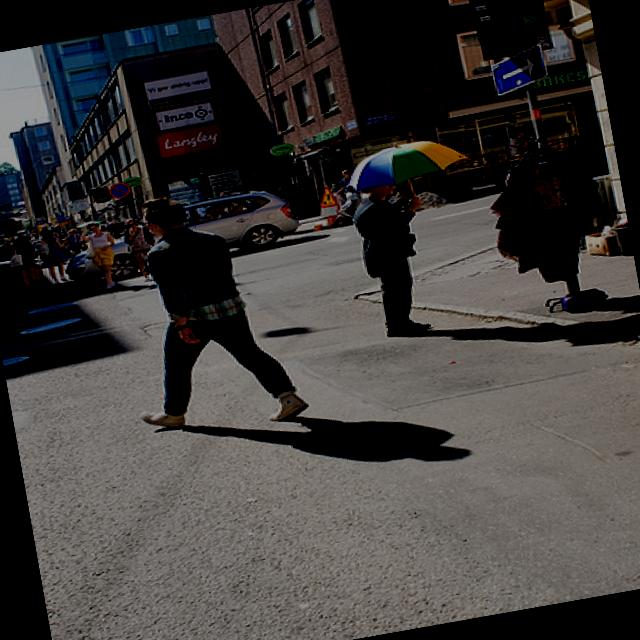Vehicle: (56, 183, 305, 290), (58, 185, 304, 288)
